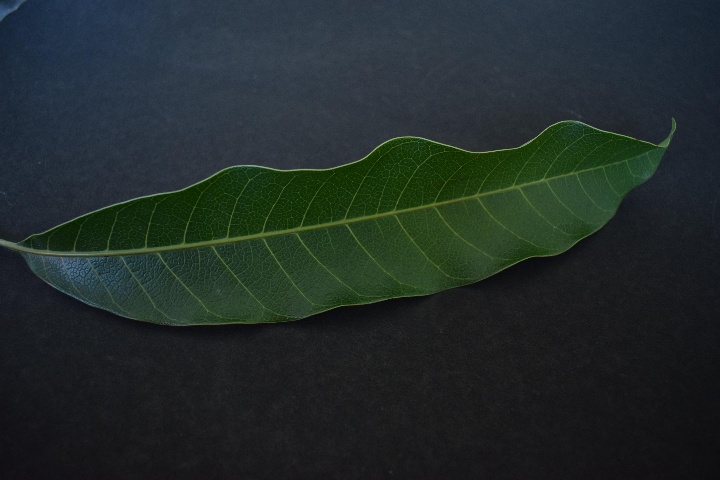healthy: (28, 129, 678, 324)
